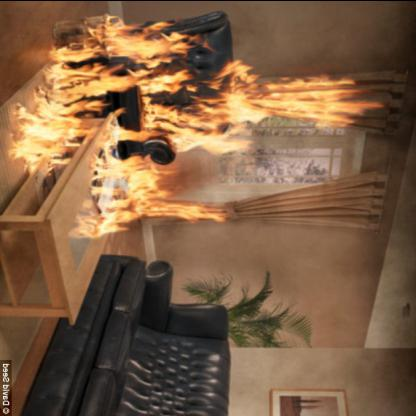Fire: (21, 17, 198, 141), (216, 61, 372, 130), (100, 155, 216, 238)
